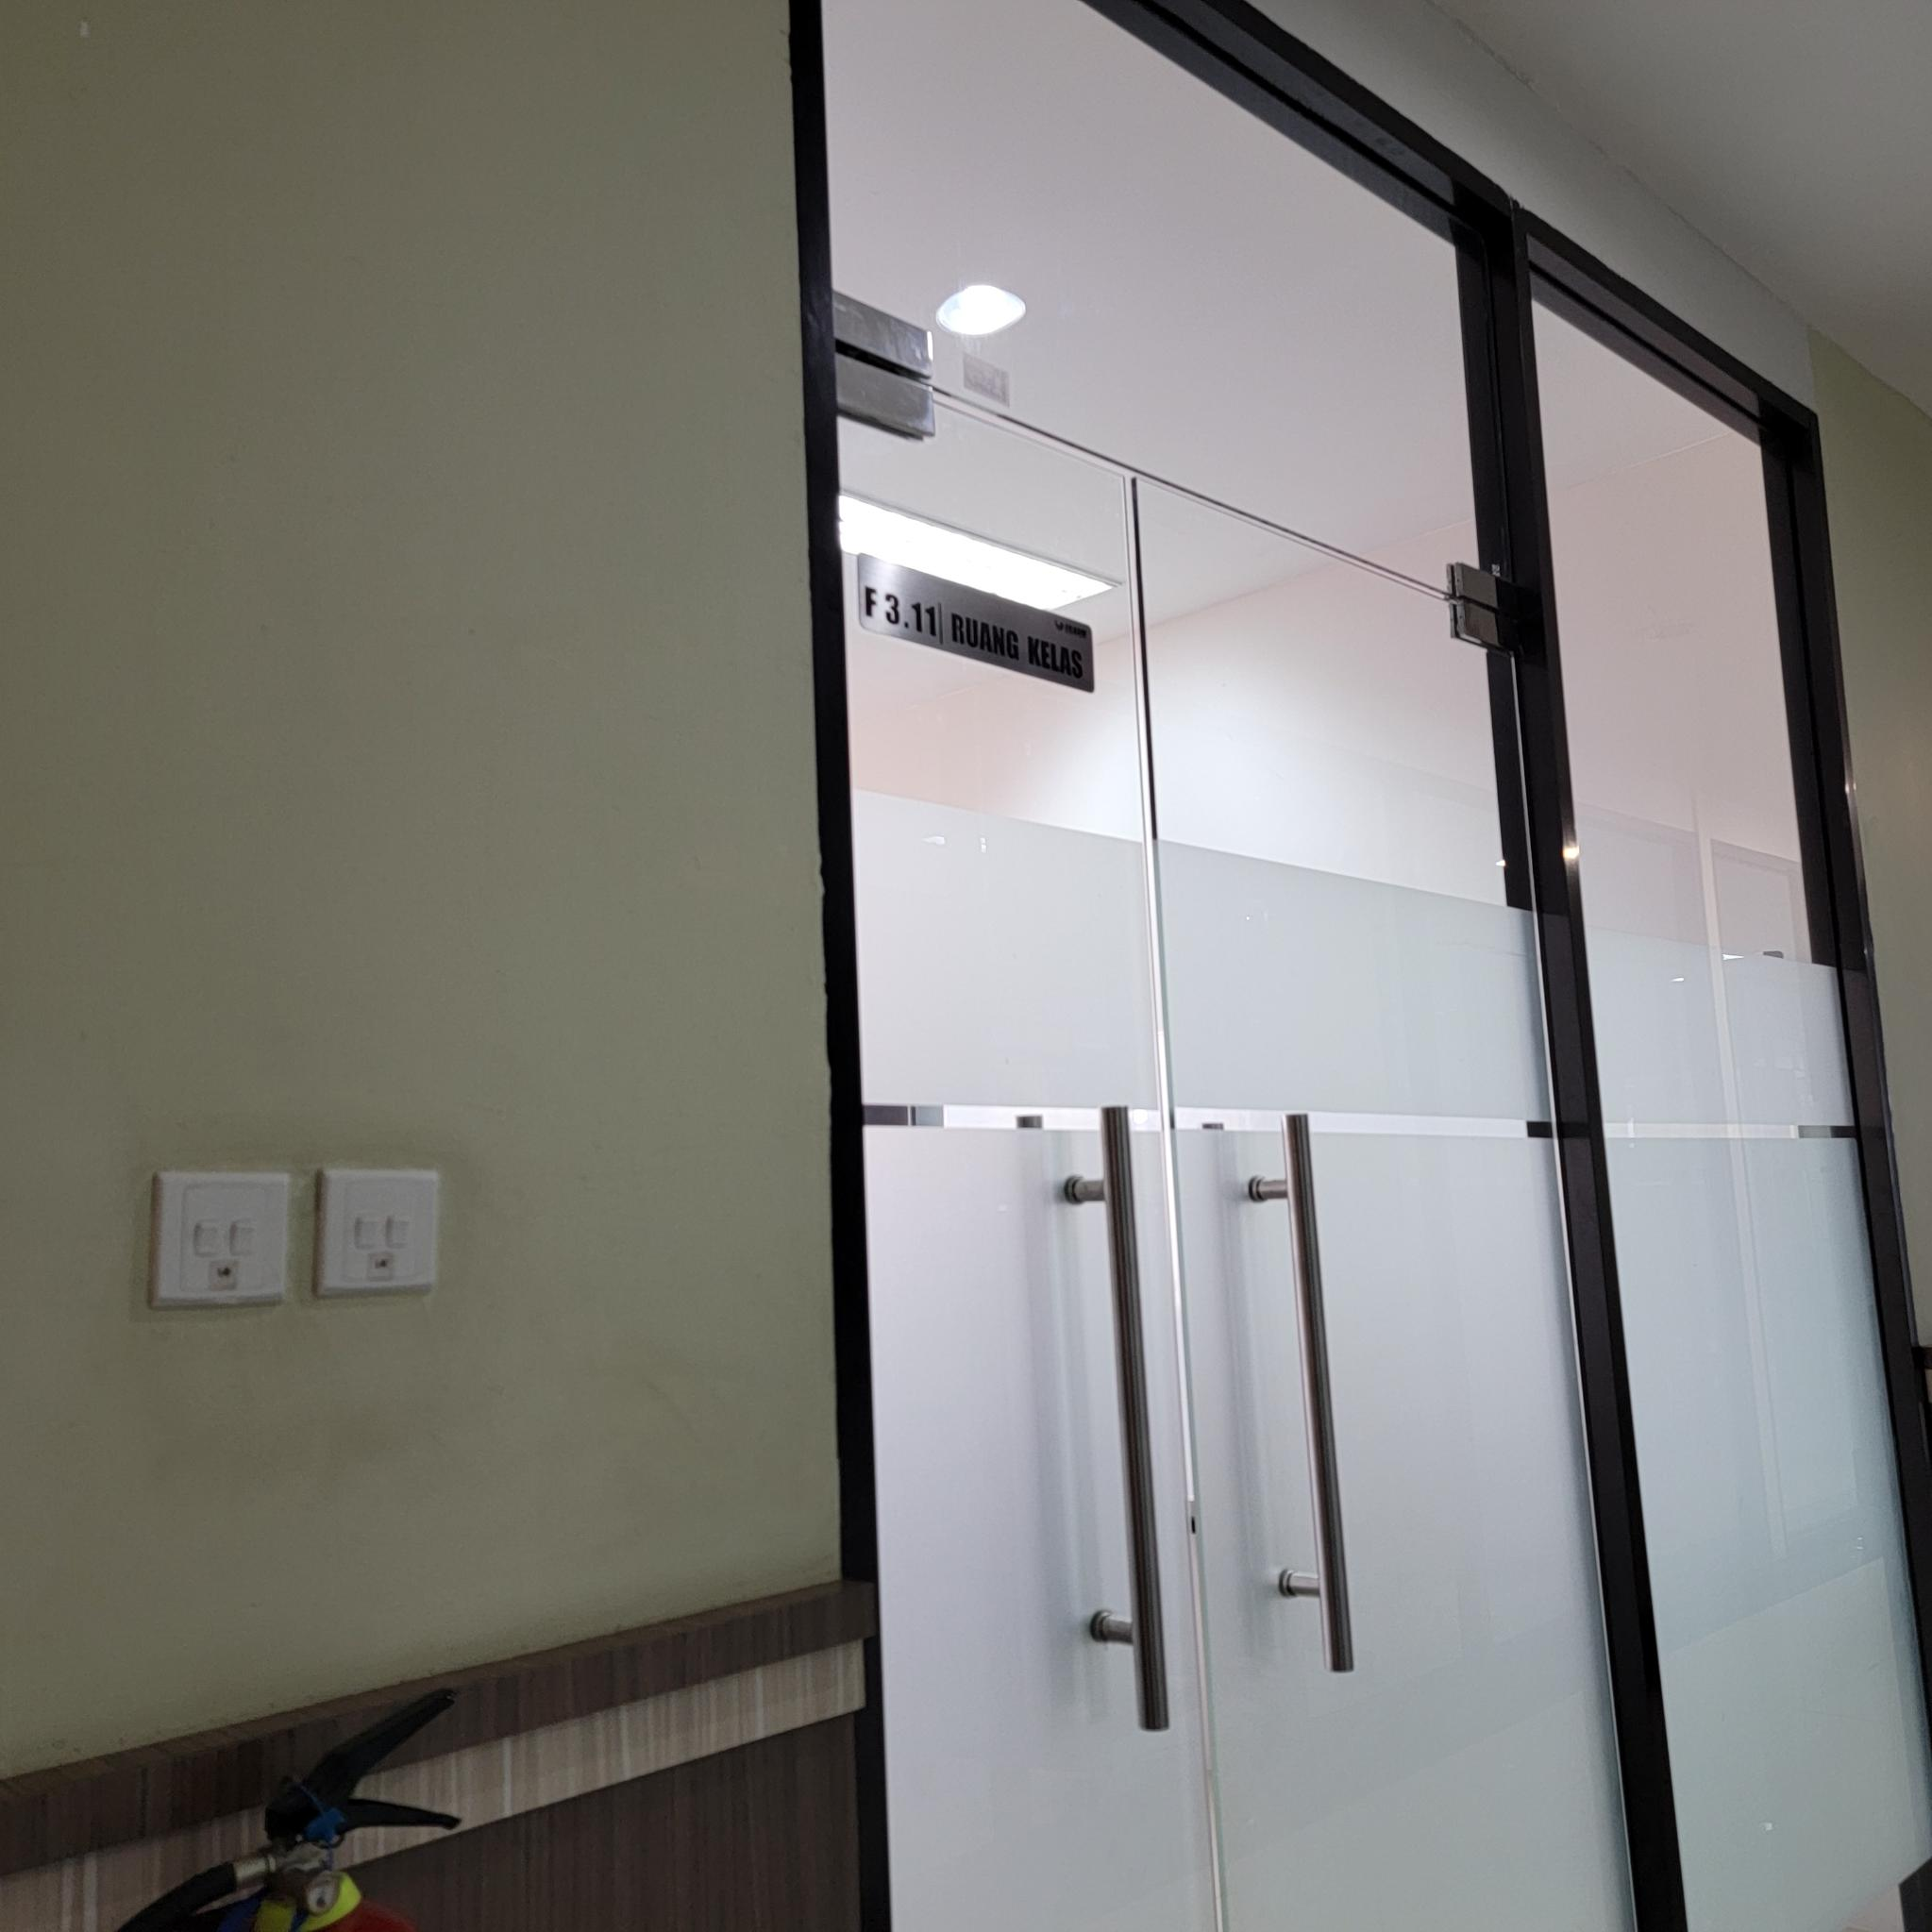plate: (856, 550, 1095, 695)
